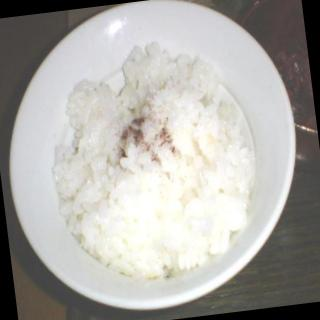Nasi: (37, 31, 268, 293)
